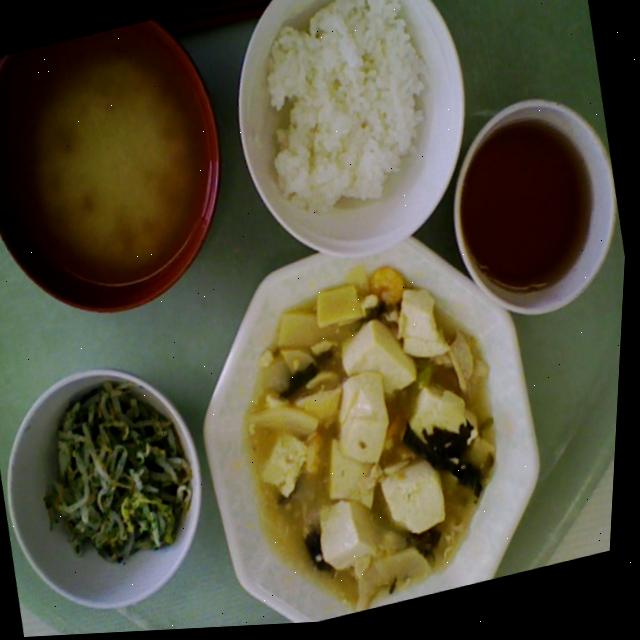汤锅炖物: (0, 5, 259, 340)
米饭主食: (194, 0, 508, 295)
